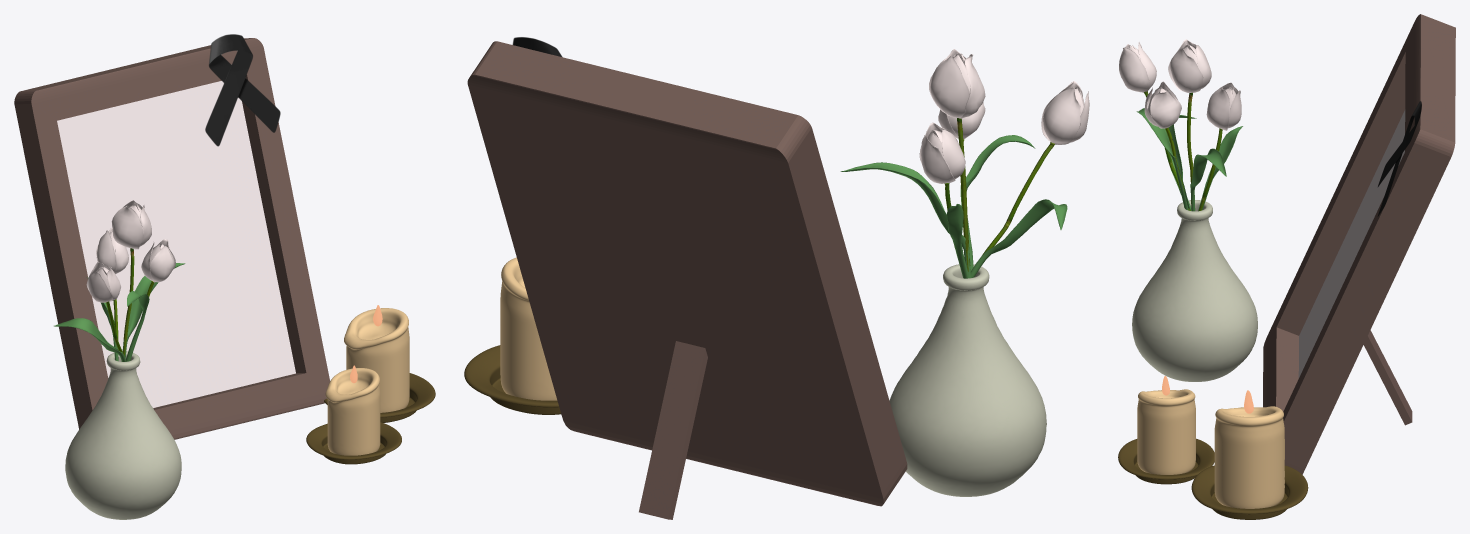
Rendered from Tribute.glb.
3 views of the same model, side by side, from view 1: azimuth 30°, elevation 25°; view 2: azimuth 150°, elevation 25°; view 3: azimuth 270°, elevation 25° (orthographic). The views are drawn at different scales.
Parts seen in each view (by area): view 1: Cube, SM_Jug of flowers A, ribbon.001; view 2: Cube, SM_Jug of flowers A; view 3: Cube, SM_Jug of flowers A, ribbon.001.
Part boxes in pixels (x1=…): Cube: x1=14, y1=38, x2=435, y2=464; SM_Jug of flowers A: x1=54, y1=200, x2=185, y2=519; ribbon.001: x1=205, y1=34, x2=280, y2=146; Cube: x1=464, y1=41, x2=907, y2=519; SM_Jug of flowers A: x1=840, y1=49, x2=1089, y2=496; Cube: x1=1118, y1=14, x2=1455, y2=519; SM_Jug of flowers A: x1=1119, y1=39, x2=1257, y2=381; ribbon.001: x1=1377, y1=101, x2=1421, y2=216.
Size of the model in its own units: 3.75 by 3.18 by 2.55.
6 materials, 6 textured.
